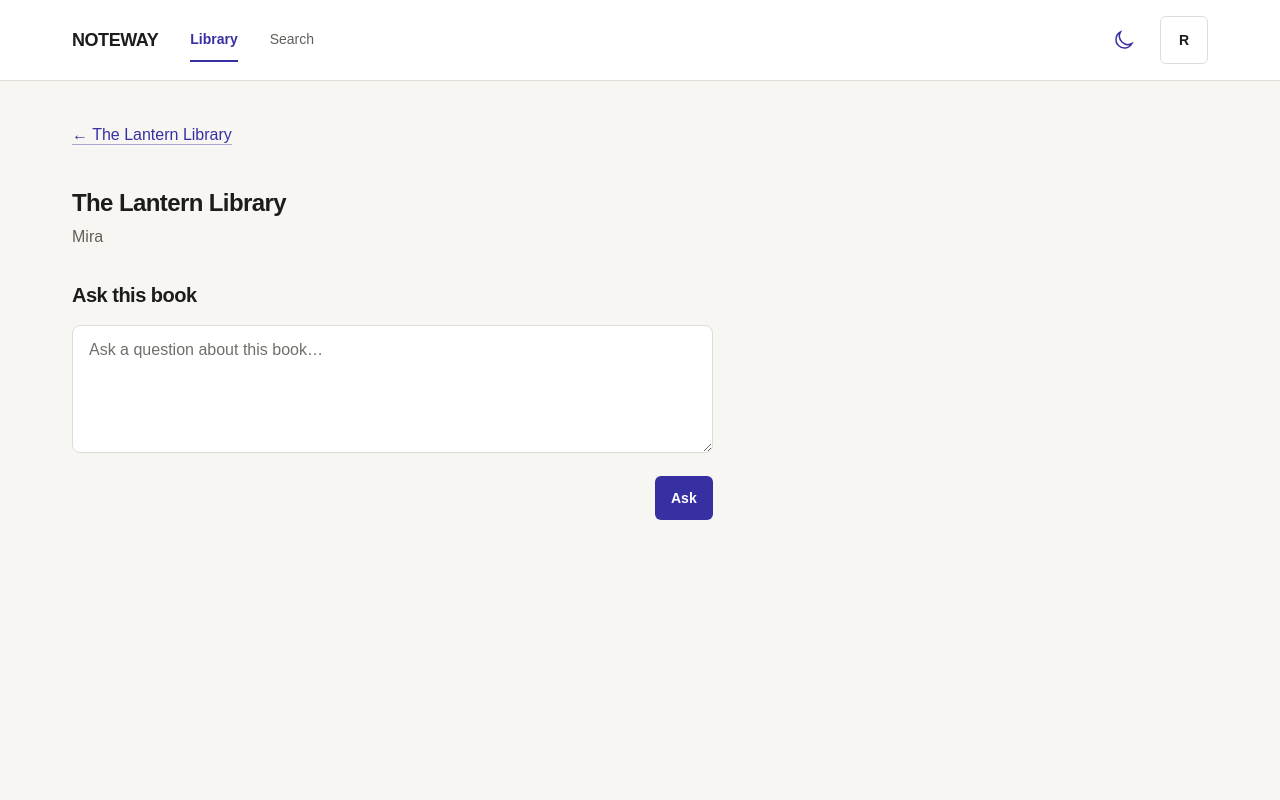
Test: replaces the previous answer with a valid insufficient-evidence result without error styling
Expected: the heading "The Lantern Library" is shown, x1=72 y1=189 x2=286 y2=216
Type "What color is the lantern?" into the text box labelled "Ask this book" at (392, 389), box x1=72 y1=325 x2=713 y2=453
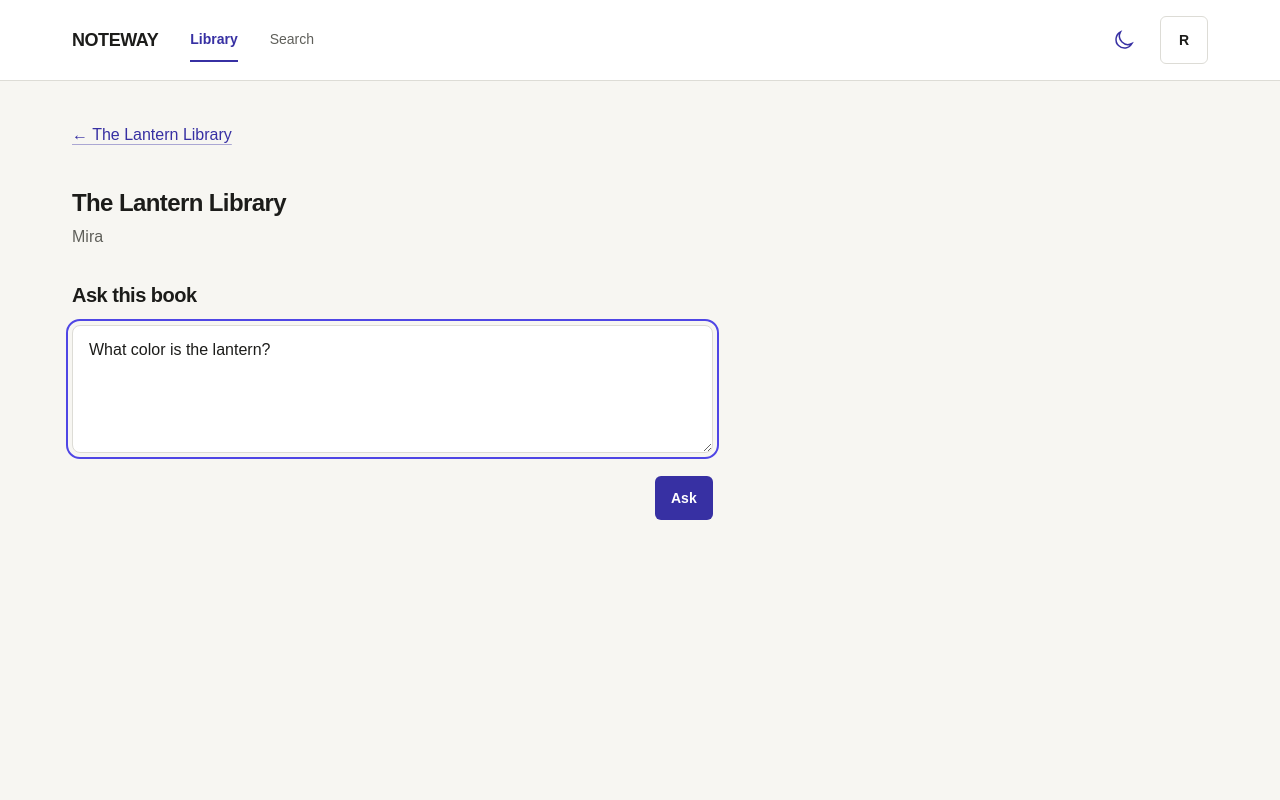
Click the button "Ask" at (684, 498), box x1=655 y1=476 x2=713 y2=520
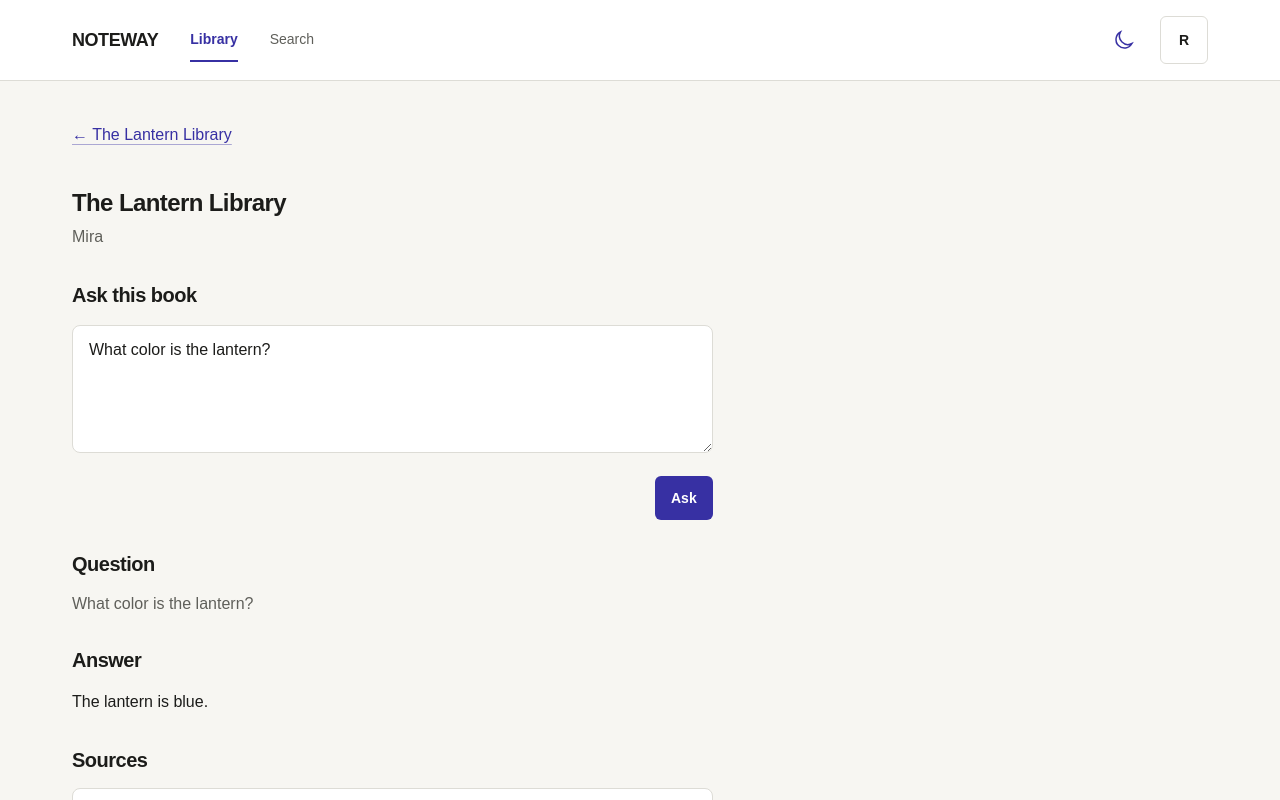
Expected: the text "The lantern is blue." is shown, x1=72 y1=693 x2=208 y2=710
Click the button "Ask" at (684, 498), box x1=655 y1=476 x2=713 y2=520
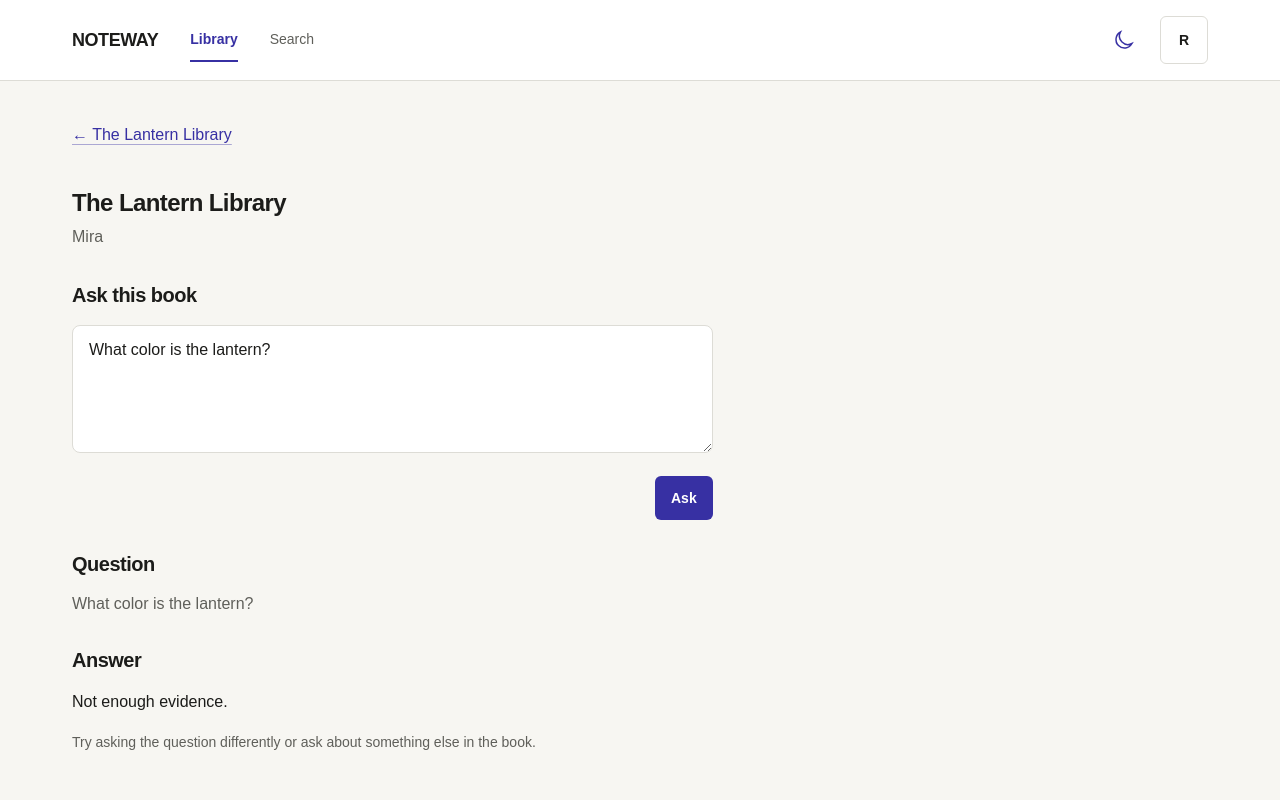
Expected: the text "Not enough evidence." is shown, x1=72 y1=693 x2=228 y2=710
Expected: the heading "Sources" is gone
Expected: the text "The lantern is blue." is gone
